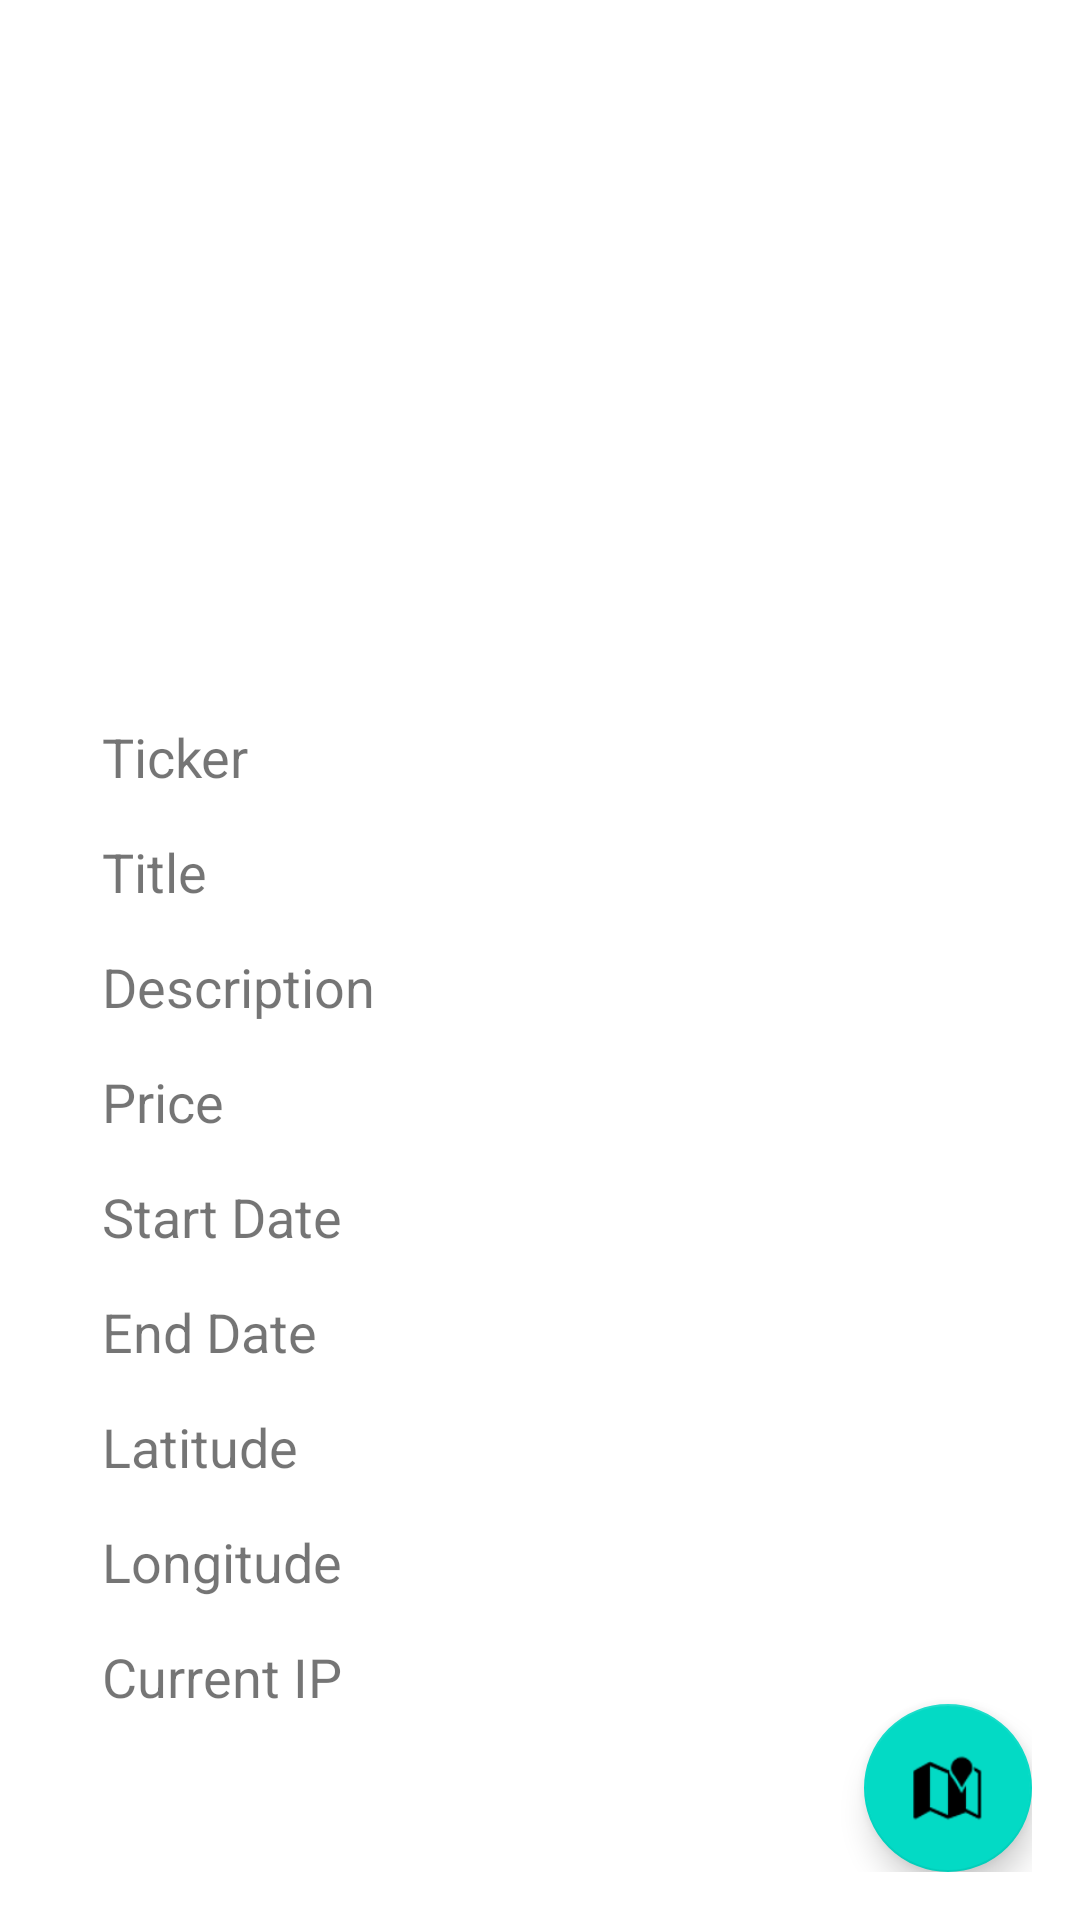

Screen size 1080x1920. Icon name, then its box in pixels as (left=x1, top=y1, right=x2, bottom=y2):
View map: (left=864, top=1704, right=1032, bottom=1872)
